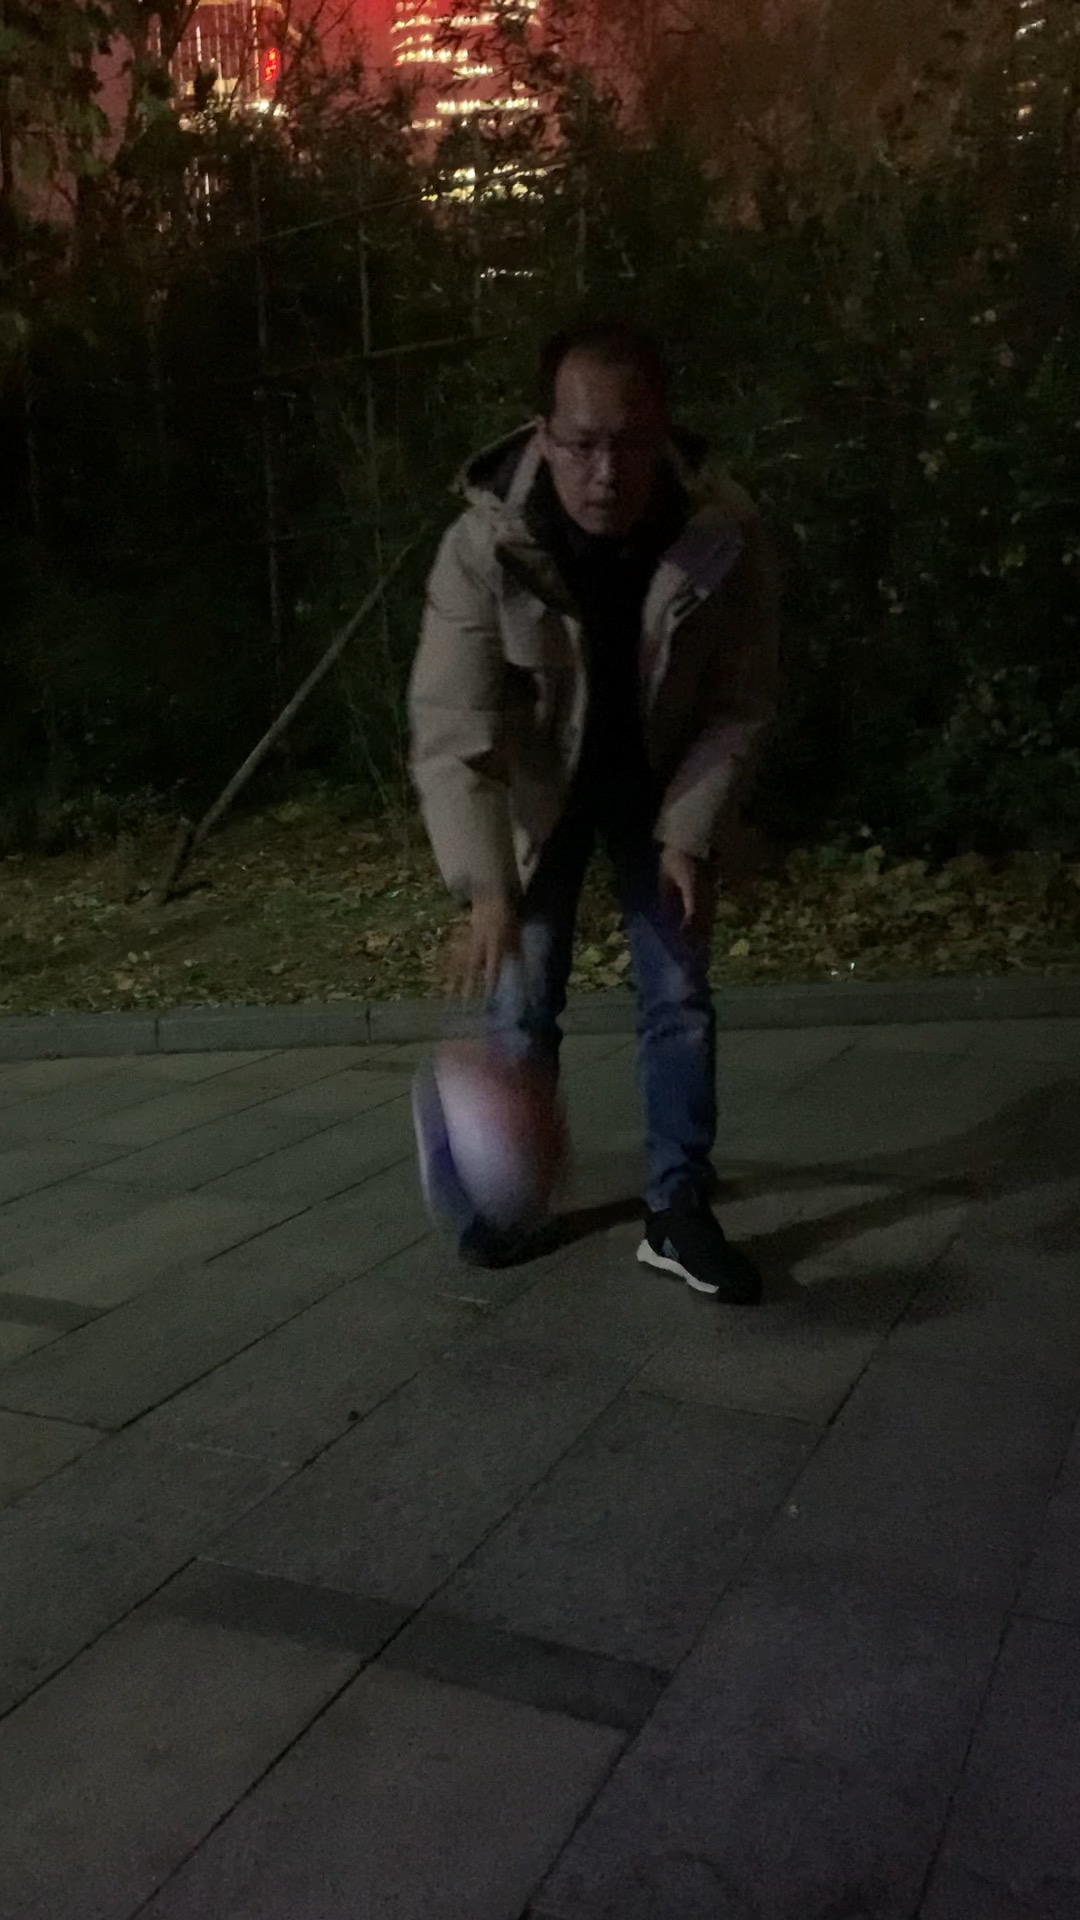ball: (396, 1051, 578, 1218)
